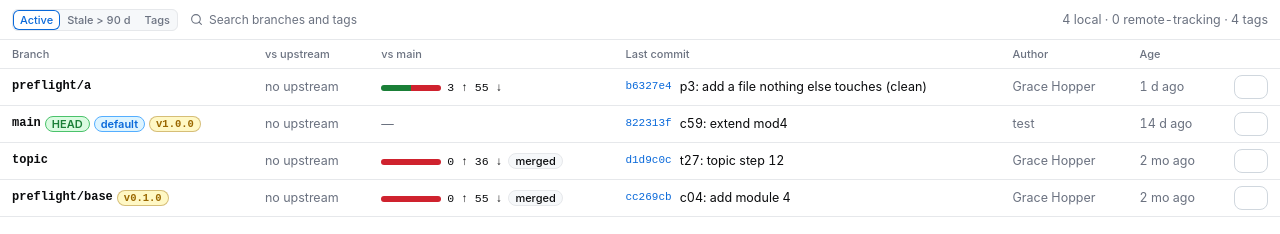
Scenario: BranchesView filters and search (Design §14.6) › narrows the table with the search box
Type "preflight" into the search field labelled "Search branches and tags". click: (630,20)
box: [209,10,1050,30]
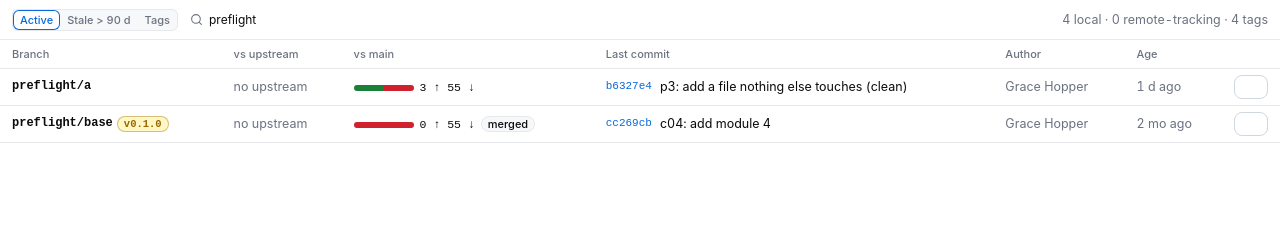
Replace the text in the search field named "Search branches and tags" with "nothing-matches". click: (630,20)
box: [209,10,1050,30]
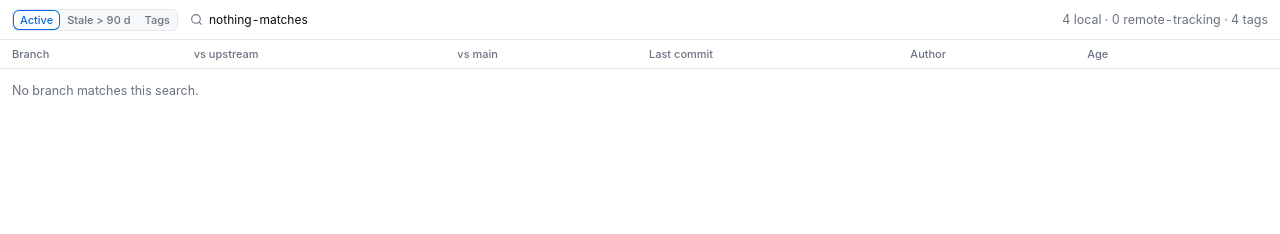
expect the text "No branch matches this search." is shown: met, box [12,83,198,98]
